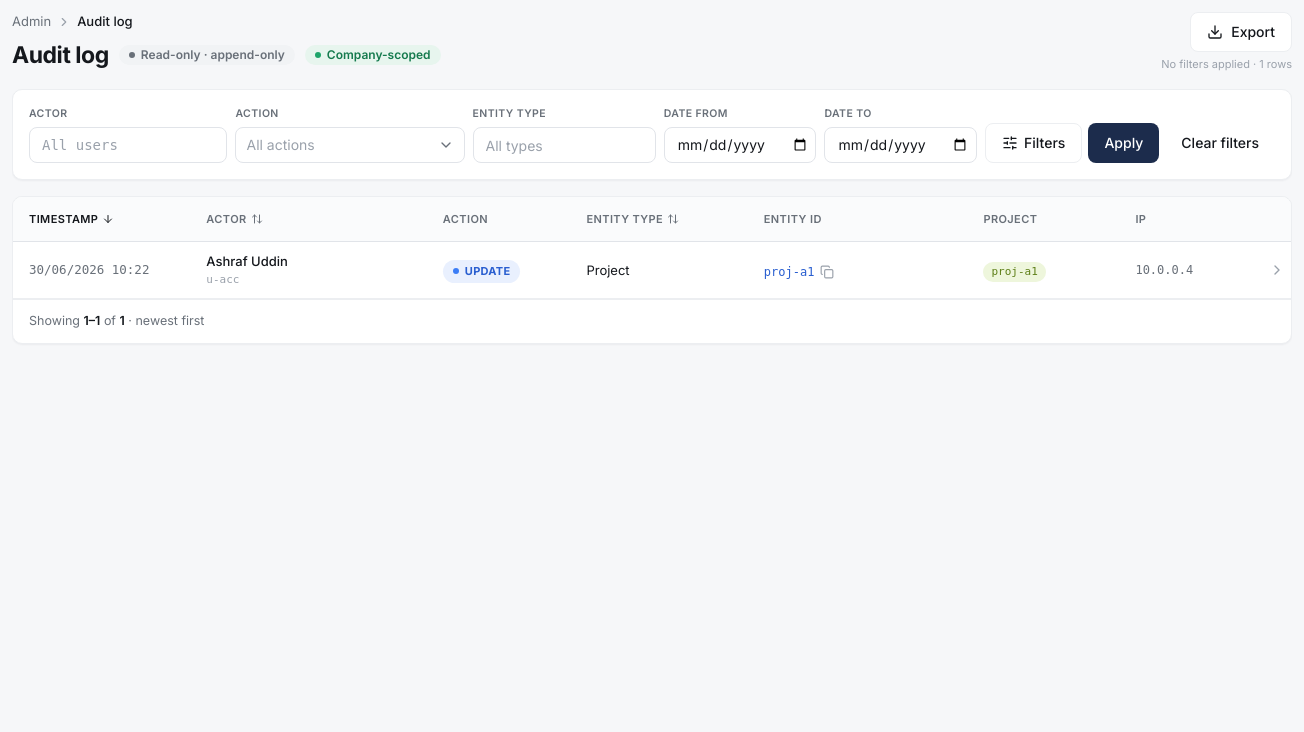
Test: AuditLogScreen — export CTA (FR-AUD-028; FULLY WIRED, not stubbed) › maps a FORBIDDEN export error to the exact copy
Expected: the row with test id "audit-row-log-1" is shown, [13,242,1291,299]
Click the button with test id "audit-export-button" at (1241, 32), box [1190,12,1292,52]
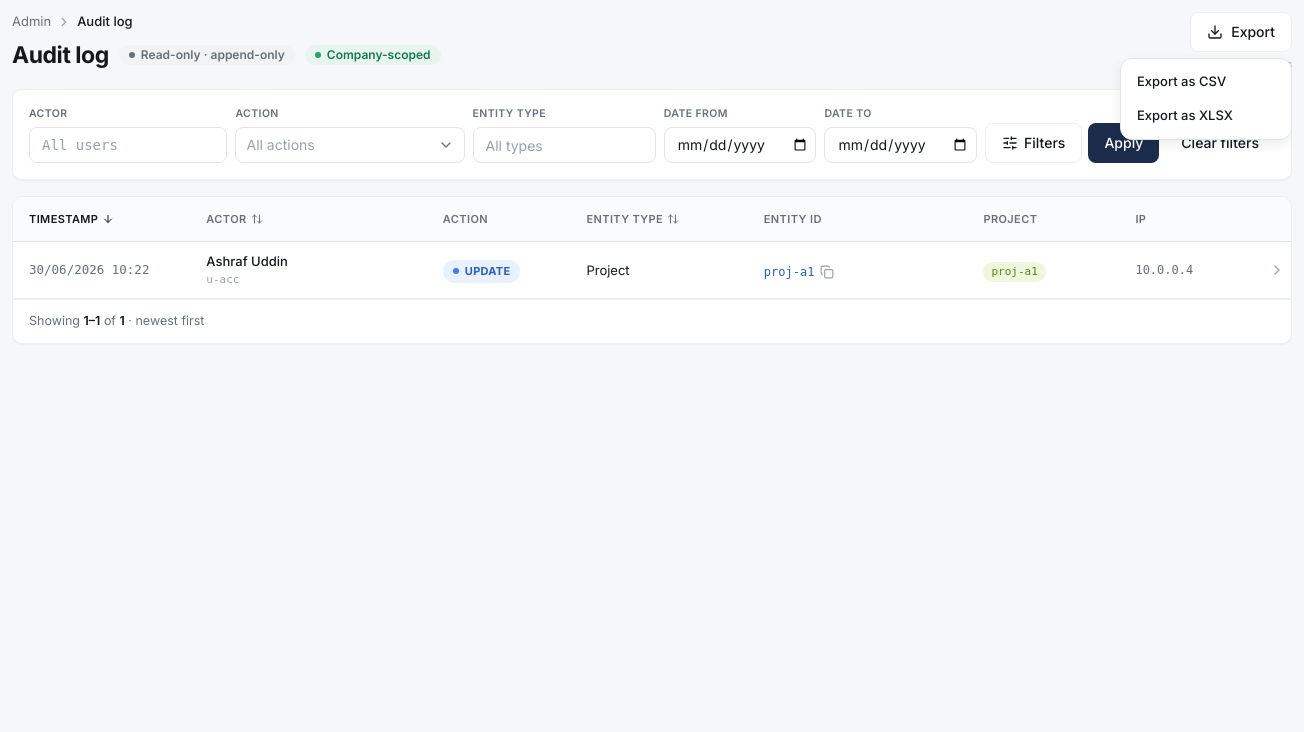
Click the menu item with test id "audit-export-csv" at (1182, 81), box [1137,73,1226,89]
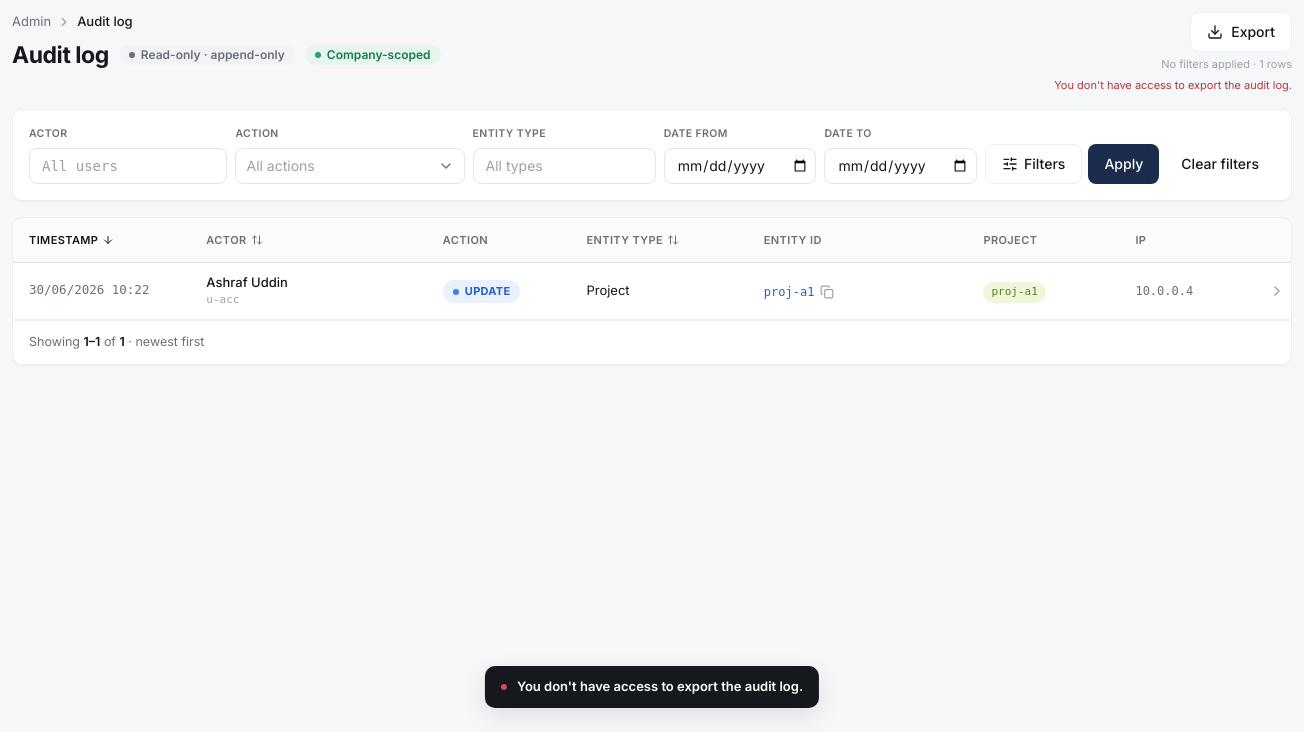
Expected: the message with test id "audit-export-error" reads "You don't have access to export the audit log.", [1054,78,1292,92]
